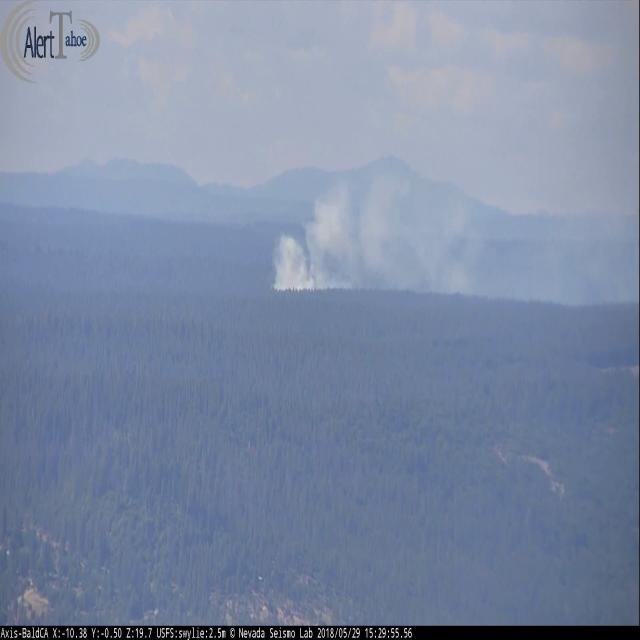smoke: (272, 176, 447, 286)
